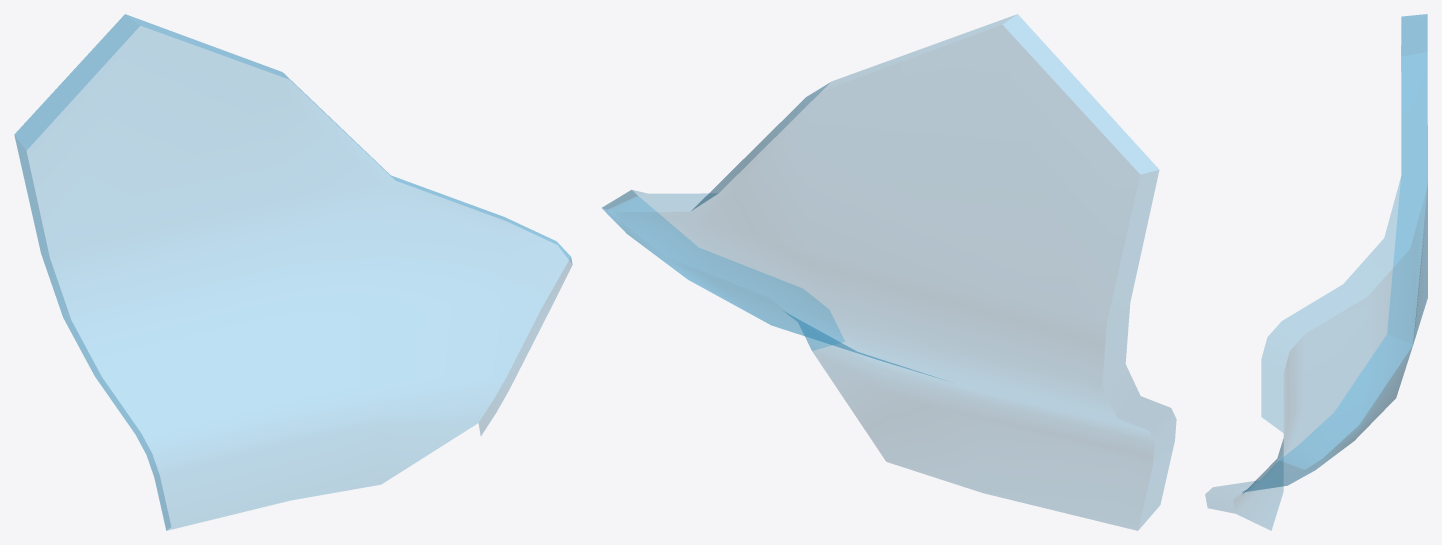
File: p_hvs_minidungeon_rewardlocker_shatterglass_part02.fbx
The picture shows the model from 3 angles, left to right: view 1: azimuth 30°, elevation 25°; view 2: azimuth 150°, elevation 25°; view 3: azimuth 270°, elevation 25°; orthographic projection. The views are drawn at different scales.
Visible parts, largest first — view 1: 2_shatterglass; view 2: 2_shatterglass; view 3: 2_shatterglass.
Boxes of the visible parts, bbox=[...] form: 2_shatterglass: bbox=[14, 14, 572, 530]; 2_shatterglass: bbox=[602, 14, 1176, 530]; 2_shatterglass: bbox=[1205, 14, 1427, 530].
Size of the model in its own units: 1.84 by 1.61 by 0.7486.
